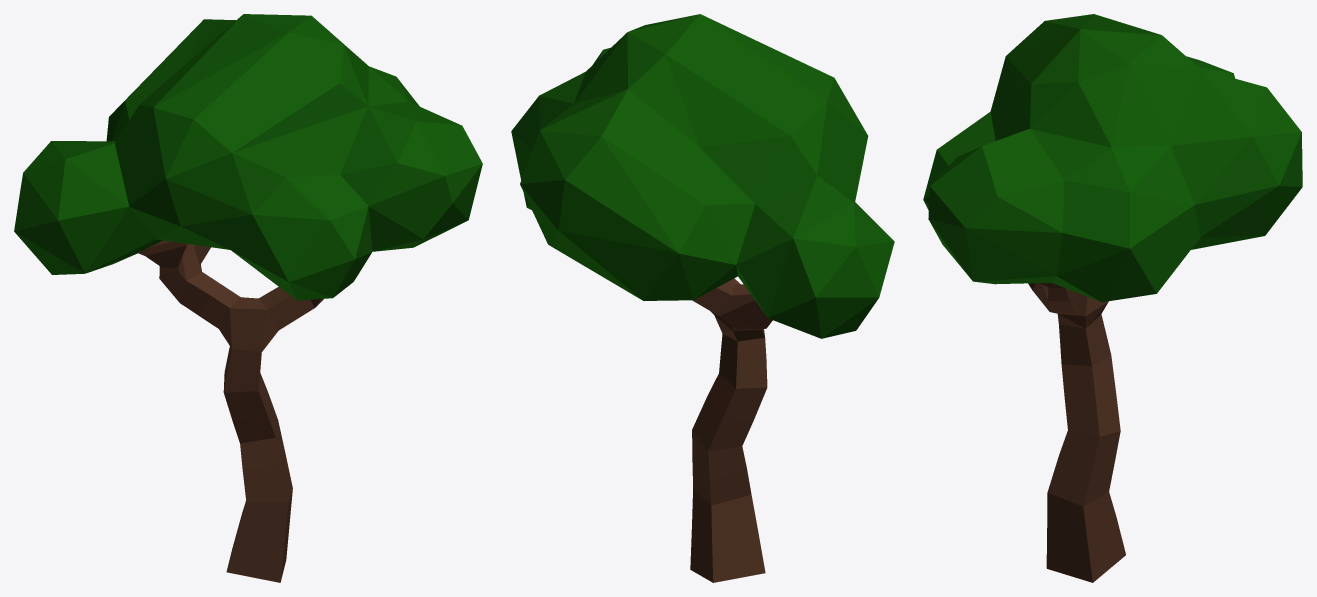
Rendered from Tree-01.glb.
The picture shows the model from 3 angles, left to right: view 1: azimuth 30°, elevation 25°; view 2: azimuth 150°, elevation 25°; view 3: azimuth 270°, elevation 25°; orthographic projection. The views are drawn at different scales.
Visible parts, largest first — view 1: Leaves, Trunk; view 2: Leaves, Trunk; view 3: Leaves, Trunk.
Part boxes in pixels (x1,y1,x2,y2): Leaves: (14,14,482,300); Trunk: (138,240,323,582); Leaves: (511,14,894,338); Trunk: (690,278,772,582); Leaves: (923,14,1302,302); Trunk: (1028,283,1125,582).
Bounding box in the file's own units: 5.17 × 6.88 × 4.29.
Materials: 1 (1 with a texture image).
